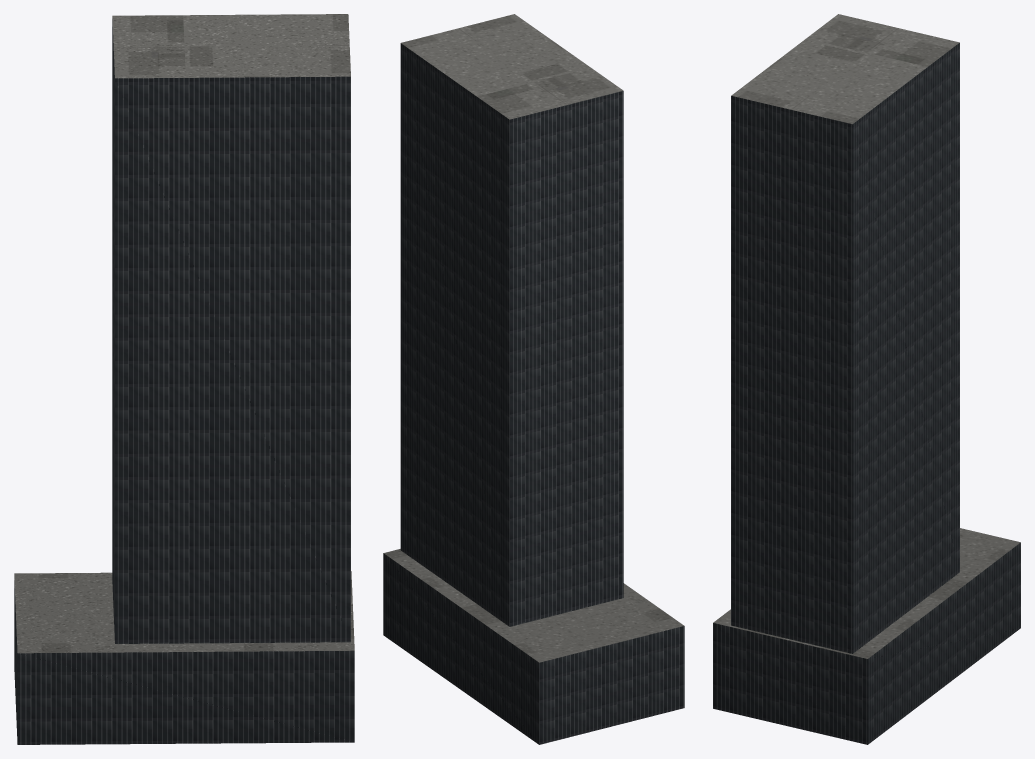
3 renders of one model, left to right at view 1: azimuth 30°, elevation 25°; view 2: azimuth 150°, elevation 25°; view 3: azimuth 270°, elevation 25°, orthographic. The views are drawn at different scales.
Visible parts, largest first — view 1: uc; view 2: uc; view 3: uc.
Part boxes in pixels (x1,y1,x2,y2): uc: (14, 14, 354, 744); uc: (383, 14, 684, 744); uc: (713, 14, 1020, 744).
Size of the model in its own units: 115 by 215 by 97.46.
4 materials, 4 textured.
